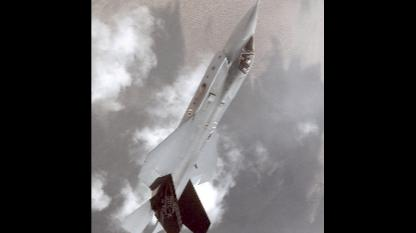F22: (121, 0, 273, 232)
